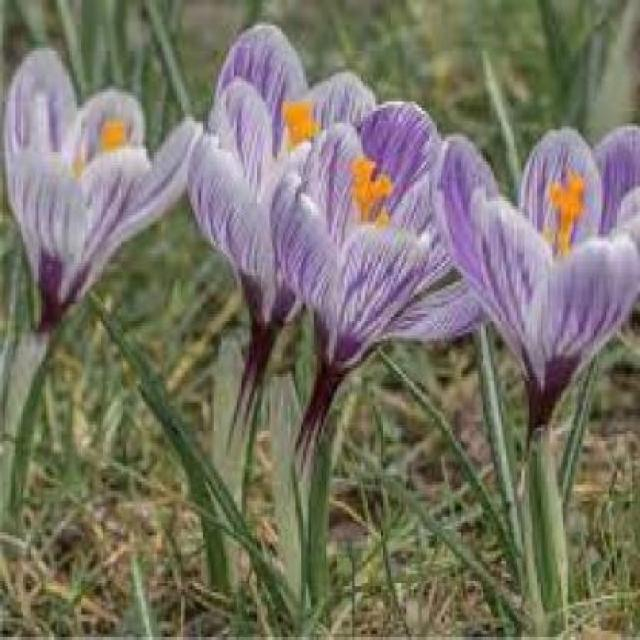saffron open: (272, 102, 480, 445), (189, 25, 374, 395), (439, 128, 640, 431), (6, 49, 202, 332)
